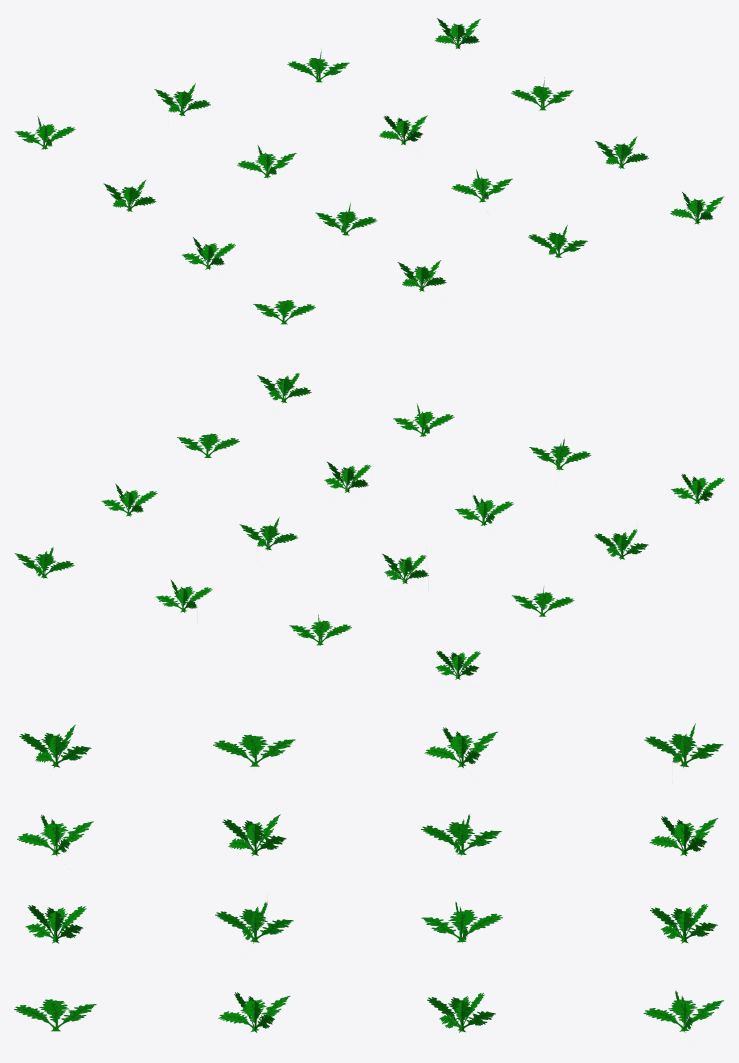
File: carrot_0.glb
3 renders of one model, top to bottom at view 1: azimuth 30°, elevation 25°; view 2: azimuth 150°, elevation 25°; view 3: azimuth 270°, elevation 25°, orthographic. The views are drawn at different scales.
Visible parts, largest first — view 1: Carrot_F1; view 2: Carrot_F1; view 3: Carrot_F1.
Part boxes in pixels (x1=…): Carrot_F1: x1=15, y1=18, x2=724, y2=324; Carrot_F1: x1=14, y1=372, x2=724, y2=679; Carrot_F1: x1=14, y1=723, x2=723, y2=1032.
Size of the model in its own units: 1.85 by 0.0914 by 1.85.
Materials: 1 (1 with a texture image).
